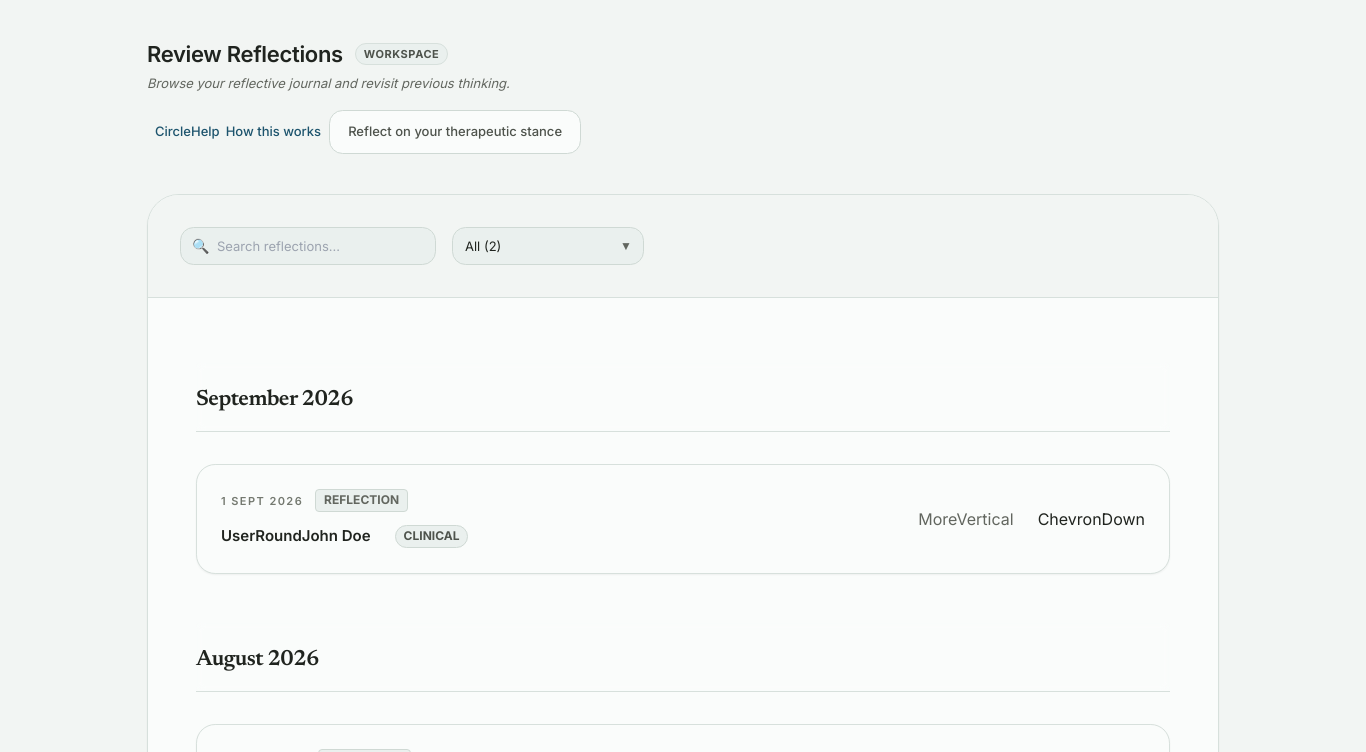
Test case: SupervisionReflections.spec.js › clears filters when the button is clicked
In the field with placeholder "Search reflections...": (308, 246) [180, 227, 436, 265], type "alliance"
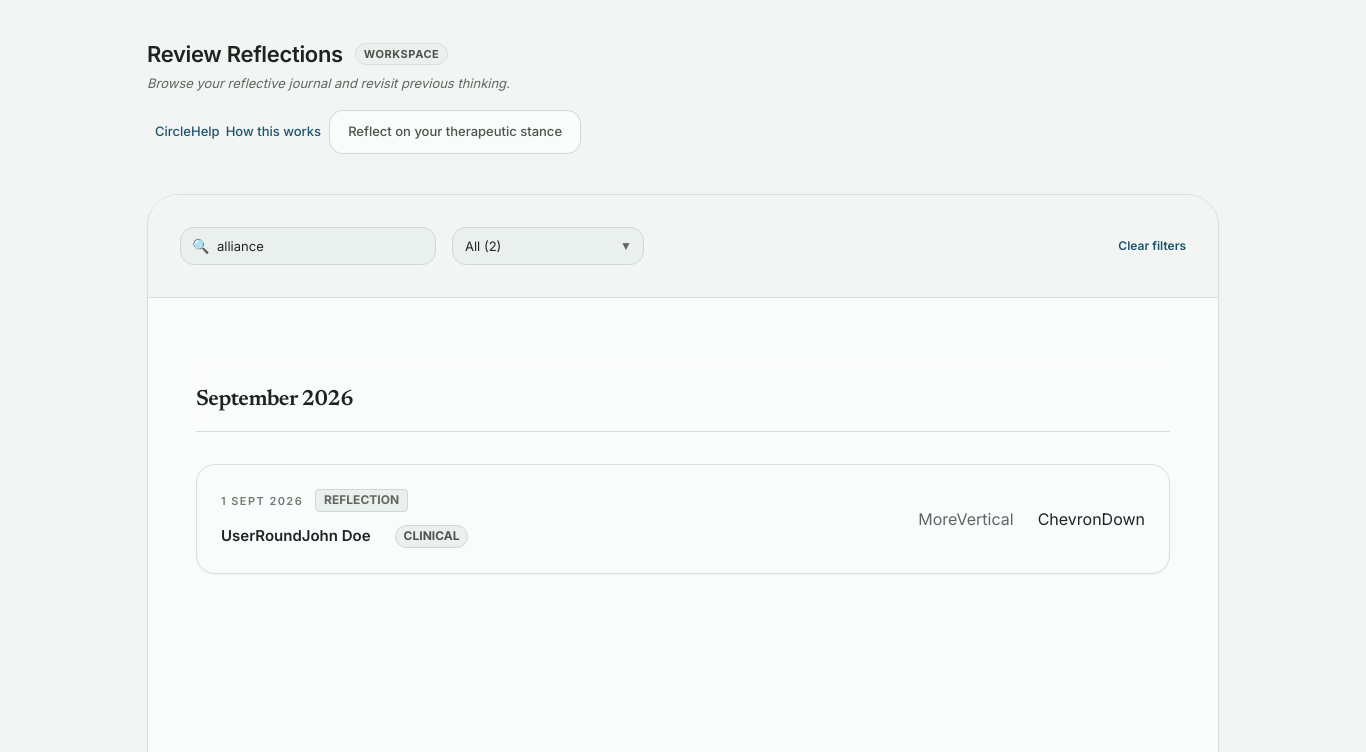
Expected: the button "Clear filters" is shown
Click the button "Clear filters": (1152, 246) [1118, 238, 1186, 254]
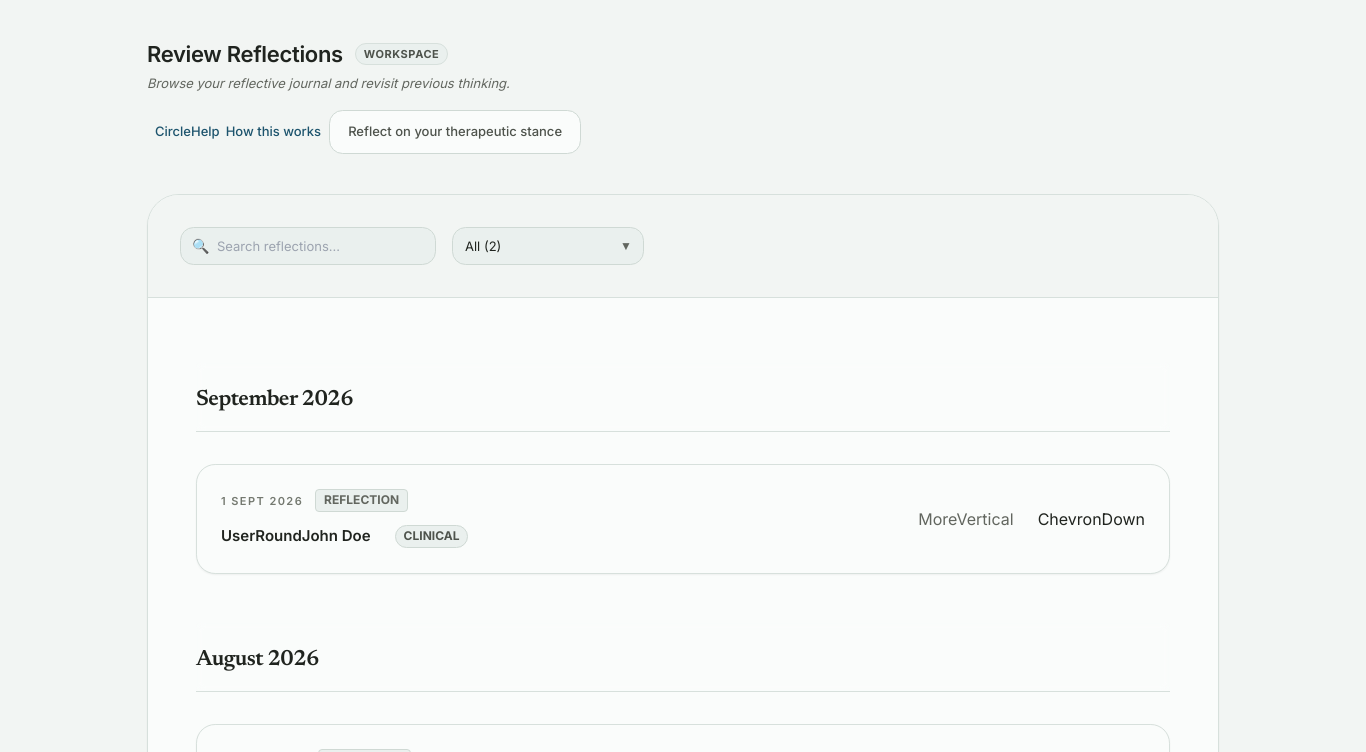
Expected: the text "John Doe" is shown, [302, 526, 371, 545]
Expected: the field with placeholder "Search reflections..." is empty, [180, 227, 436, 265]
